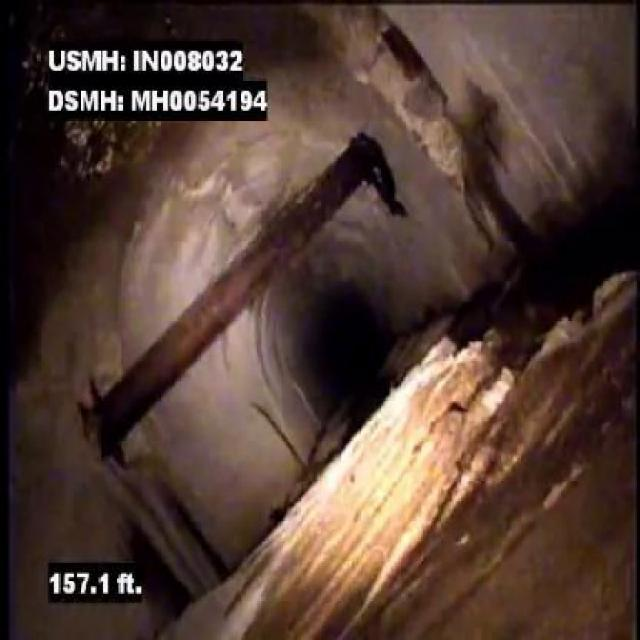Utility intrusion: (78, 240, 251, 454), (251, 128, 389, 298)
